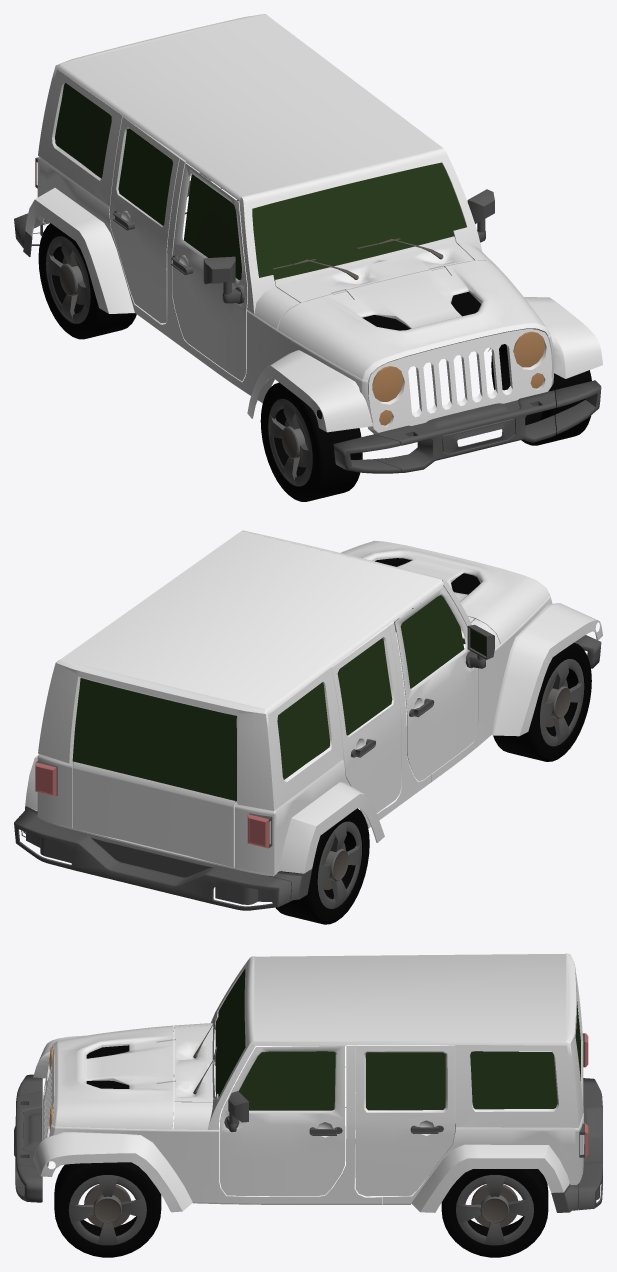
The model's file is car10.glb.
3 views of the same model, one above another, from view 1: azimuth 30°, elevation 25°; view 2: azimuth 150°, elevation 25°; view 3: azimuth 270°, elevation 25° (orthographic). The views are drawn at different scales.
Visible parts, largest first — view 1: VehicleBody, obj4~Material__32_materialGroup_3, obj12~plastic_materialGroup_10, obj27~_____21_materialGroup_14, ~??_10_materialGroup_12, obj13~_____21_materialGroup_11, ~_____21_materialGroup_1, ~plastic_materialGroup_8, obj6~_____2_materialGroup_5, ~??_22_materialGroup_9; view 2: VehicleBody, obj4~Material__32_materialGroup_3, obj12~plastic_materialGroup_10, ~??_10_materialGroup_12, obj27~_____21_materialGroup_14, obj13~_____21_materialGroup_11, obj5~??_5_materialGroup_4, ~plastic_materialGroup_8, ~??_22_materialGroup_9, ~_____21_materialGroup_1; view 3: VehicleBody, obj4~Material__32_materialGroup_3, ~_____21_materialGroup_1, obj12~plastic_materialGroup_10, ~??_10_materialGroup_12, ~??_22_materialGroup_9, ~plastic_materialGroup_8.
Boxes of the visible parts, <box> form: VehicleBody: <box>25,14,602,433</box>; obj4~Material__32_materialGroup_3: <box>55,83,466,280</box>; obj12~plastic_materialGroup_10: <box>14,158,601,473</box>; obj27~_____21_materialGroup_14: <box>260,382,362,501</box>; ~??_10_materialGroup_12: <box>46,236,312,486</box>; obj13~_____21_materialGroup_11: <box>38,223,136,339</box>; ~_____21_materialGroup_1: <box>362,292,591,445</box>; ~plastic_materialGroup_8: <box>113,189,494,304</box>; obj6~_____2_materialGroup_5: <box>368,331,545,425</box>; ~??_22_materialGroup_9: <box>59,255,358,467</box>; VehicleBody: <box>25,530,602,876</box>; obj4~Material__32_materialGroup_3: <box>72,595,486,802</box>; obj12~plastic_materialGroup_10: <box>14,618,601,910</box>; ~??_10_materialGroup_12: <box>317,659,584,908</box>; obj27~_____21_materialGroup_14: <box>493,642,591,761</box>; obj13~_____21_materialGroup_11: <box>272,808,369,924</box>; obj5~??_5_materialGroup_4: <box>35,762,268,848</box>; ~plastic_materialGroup_8: <box>351,624,494,757</box>; ~??_22_materialGroup_9: <box>323,608,570,889</box>; ~_____21_materialGroup_1: <box>37,558,480,811</box>; VehicleBody: <box>33,953,584,1212</box>; obj4~Material__32_materialGroup_3: <box>215,968,580,1110</box>; ~_____21_materialGroup_1: <box>54,1045,548,1257</box>; obj12~plastic_materialGroup_10: <box>14,1033,602,1212</box>; ~??_10_materialGroup_12: <box>68,1175,533,1245</box>; ~??_22_materialGroup_9: <box>84,1010,518,1227</box>; ~plastic_materialGroup_8: <box>224,1091,443,1135</box>.
Bounding box in the file's own units: 3.4 × 2.63 × 6.9.
